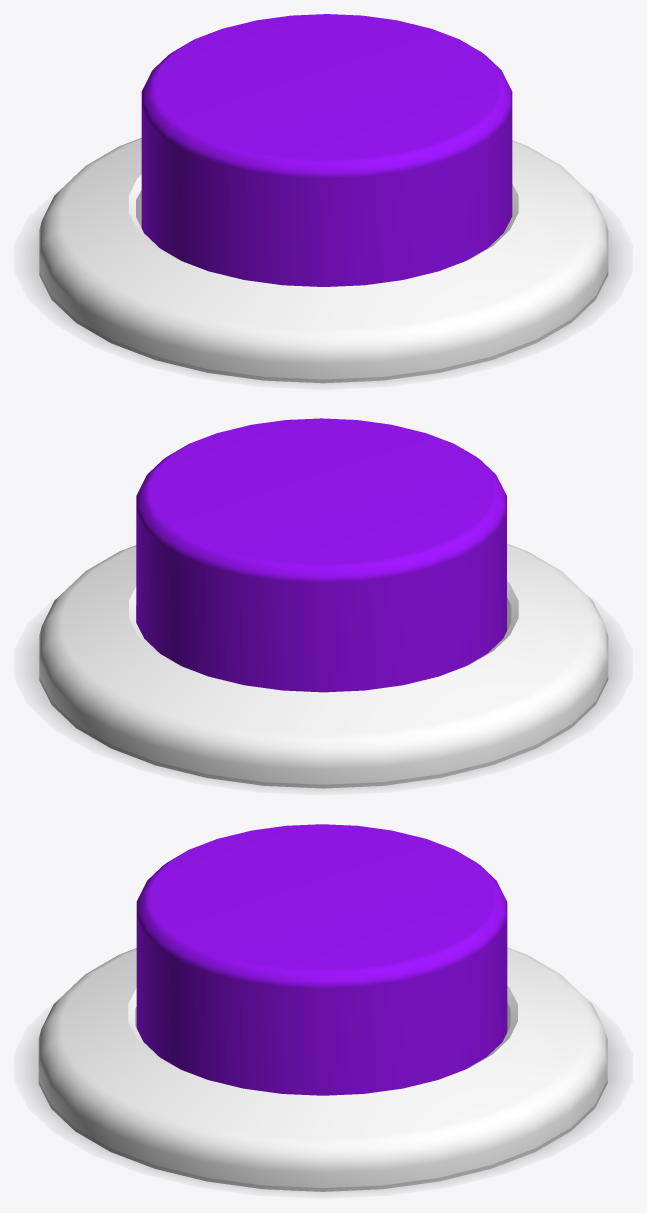
File: BigButton.glb
3 views of the same model, one above another, from view 1: azimuth 30°, elevation 25°; view 2: azimuth 150°, elevation 25°; view 3: azimuth 270°, elevation 25° (orthographic).
Visible parts, largest first — view 1: Button, ButtonRing, ButtonRingShadow; view 2: Button, ButtonRing, ButtonRingShadow; view 3: Button, ButtonRing, ButtonRingShadow.
Part boxes in pixels (x1=…): Button: x1=141, y1=14, x2=512, y2=286; ButtonRing: x1=39, y1=138, x2=608, y2=383; ButtonRingShadow: x1=28, y1=219, x2=618, y2=383; Button: x1=136, y1=418, x2=506, y2=692; ButtonRing: x1=39, y1=543, x2=608, y2=788; ButtonRingShadow: x1=28, y1=625, x2=618, y2=789; Button: x1=136, y1=824, x2=507, y2=1095; ButtonRing: x1=38, y1=947, x2=607, y2=1191; ButtonRingShadow: x1=28, y1=1028, x2=618, y2=1192.
Size of the model in its own units: 0.1877 by 0.0584 by 0.1867.
Materials: 3 (1 with a texture image).
